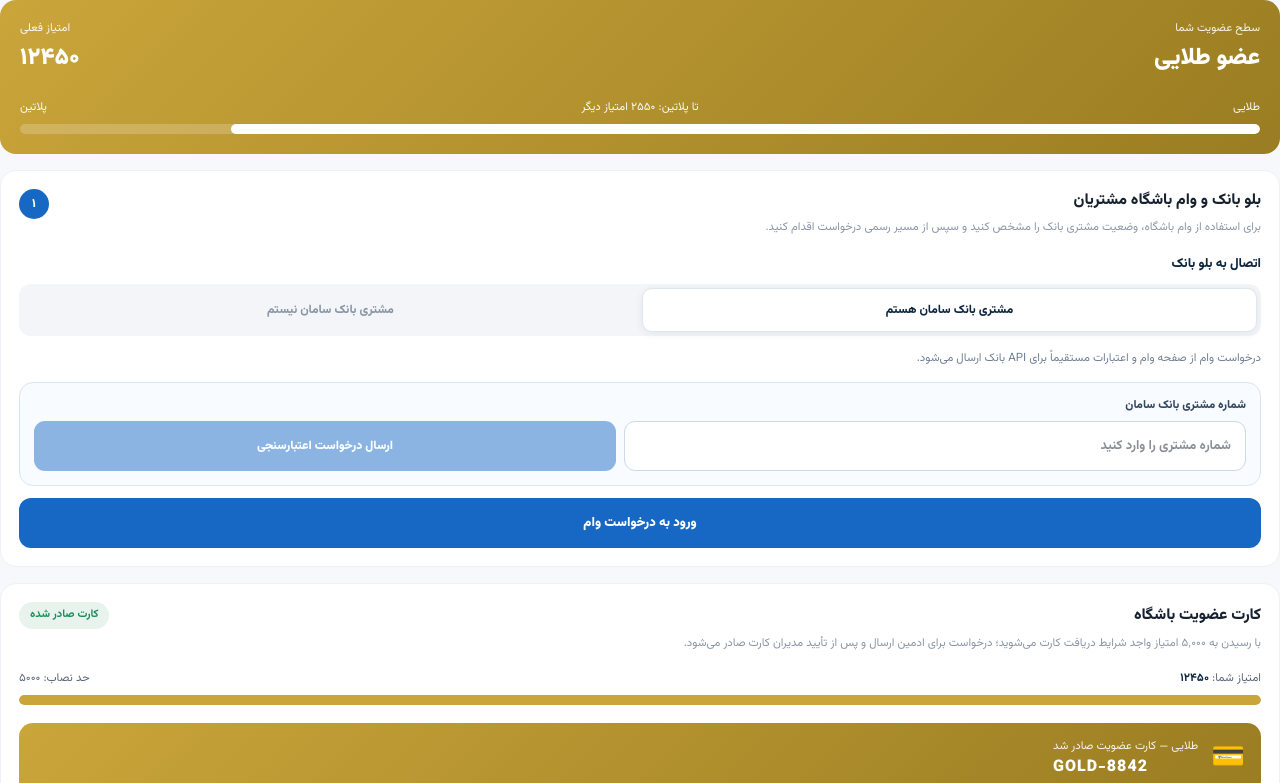
AccountClubTab › opens the Saman customer-number form and confirms the eligibility request
Click the button with test id "club-bank-customer" at (950, 310), box [642, 288, 1257, 332]
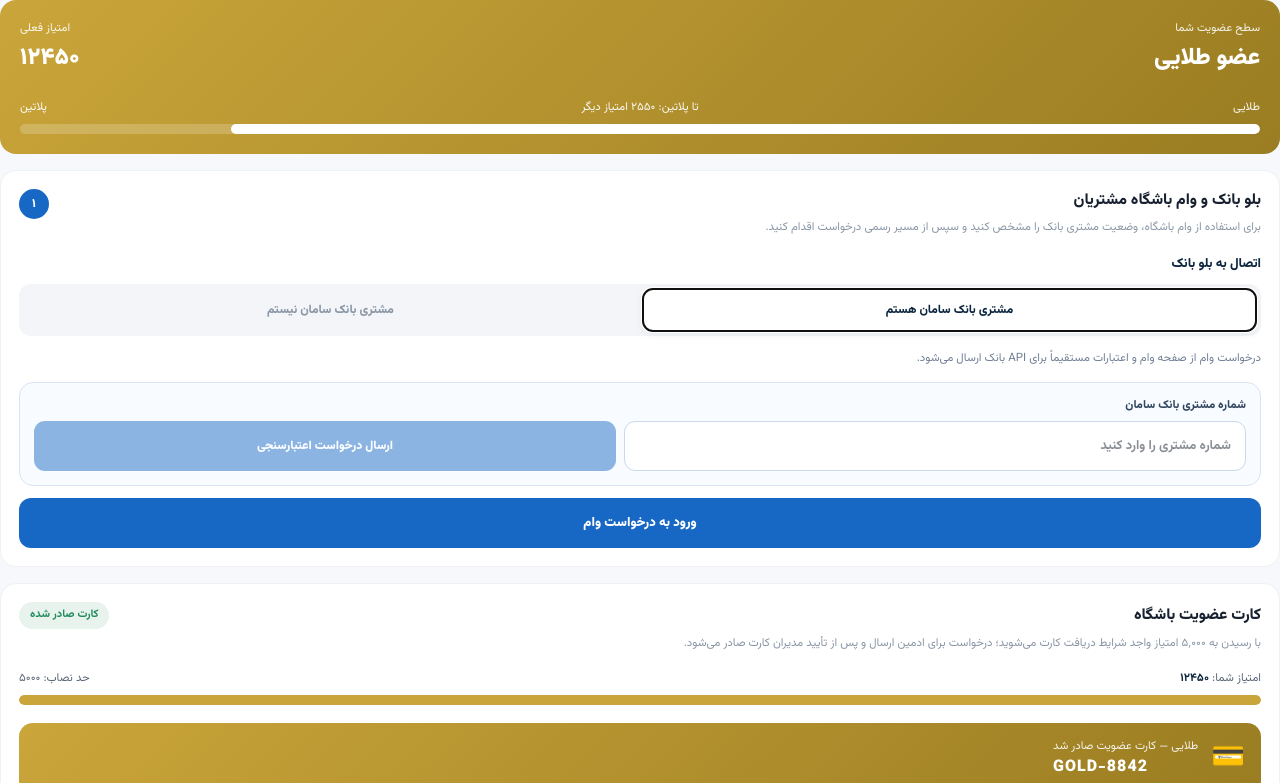
Type "1234567890" into the field with test id "club-bank-customer-number" at (935, 446), box [624, 421, 1246, 471]
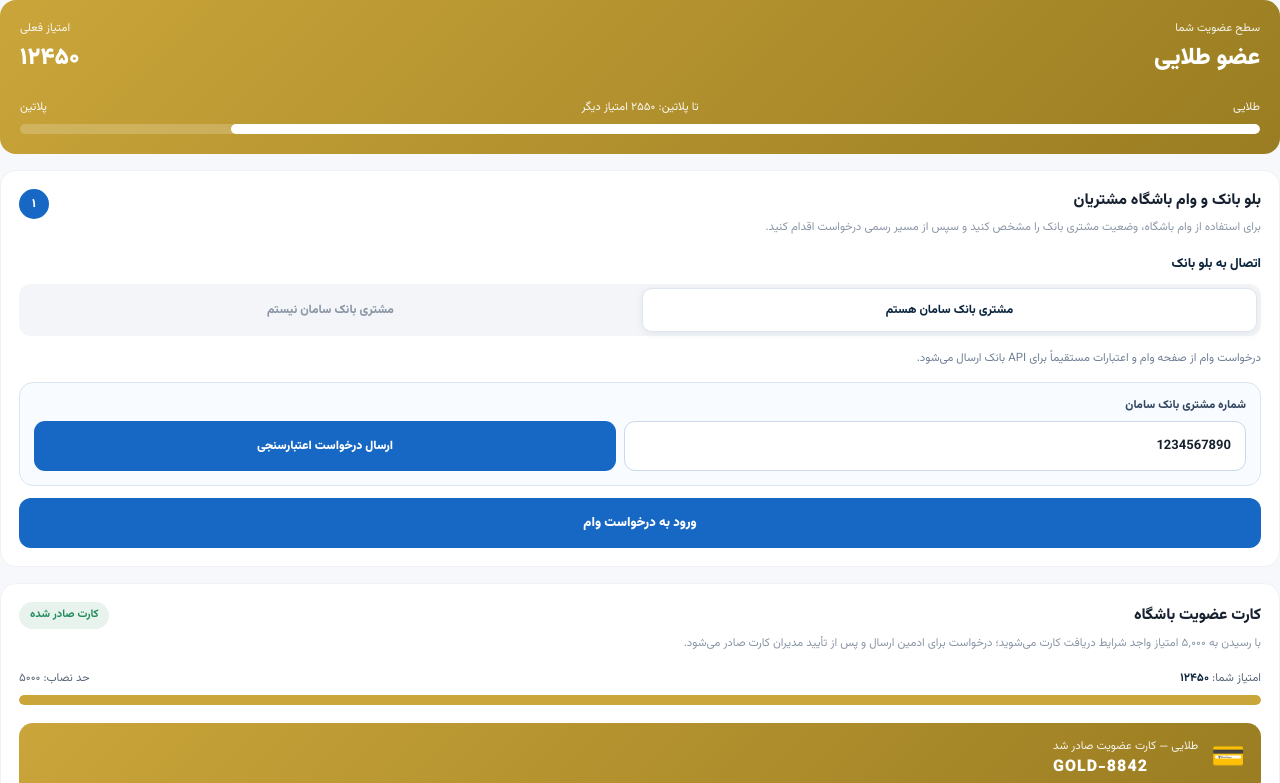
Click the button with test id "club-bank-submit" at (325, 446), box [34, 421, 616, 471]
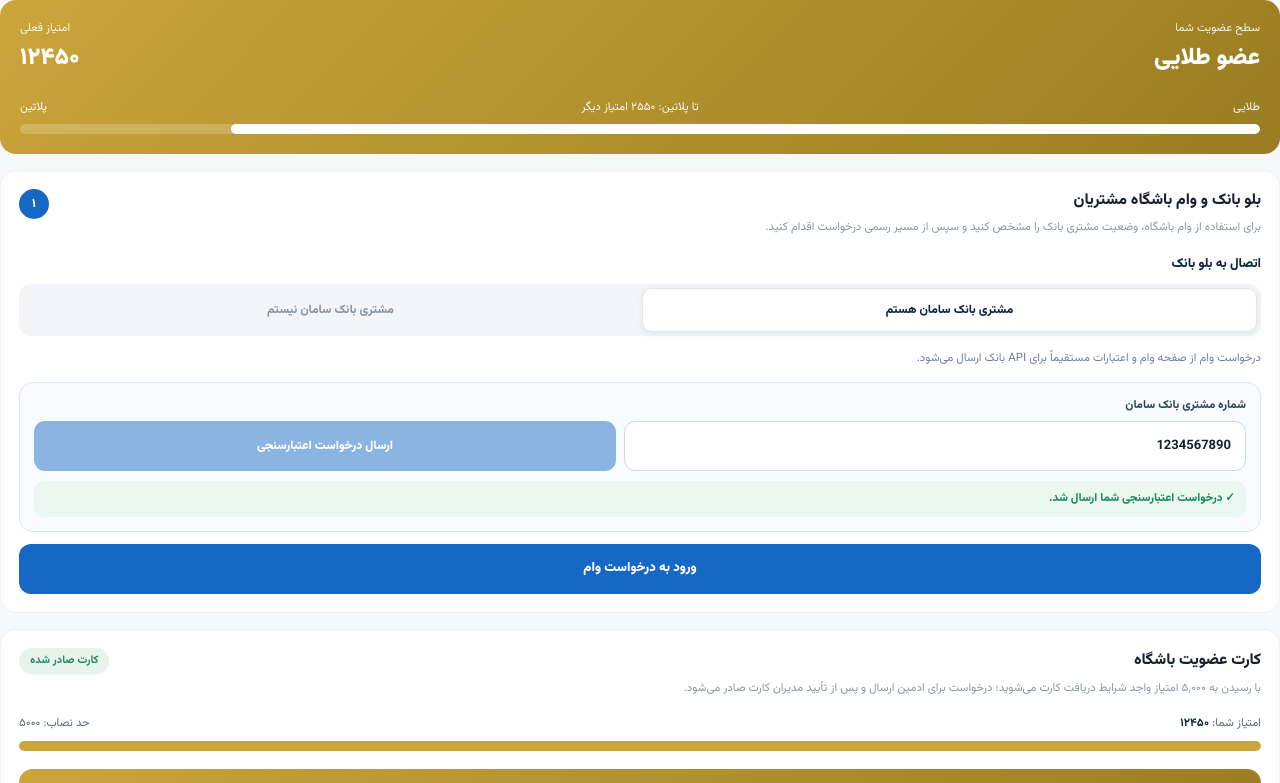
Expected: the message with test id "club-bank-success" shows "درخواست اعتبارسنجی شما ارسال شد", [1049, 489, 1222, 507]
